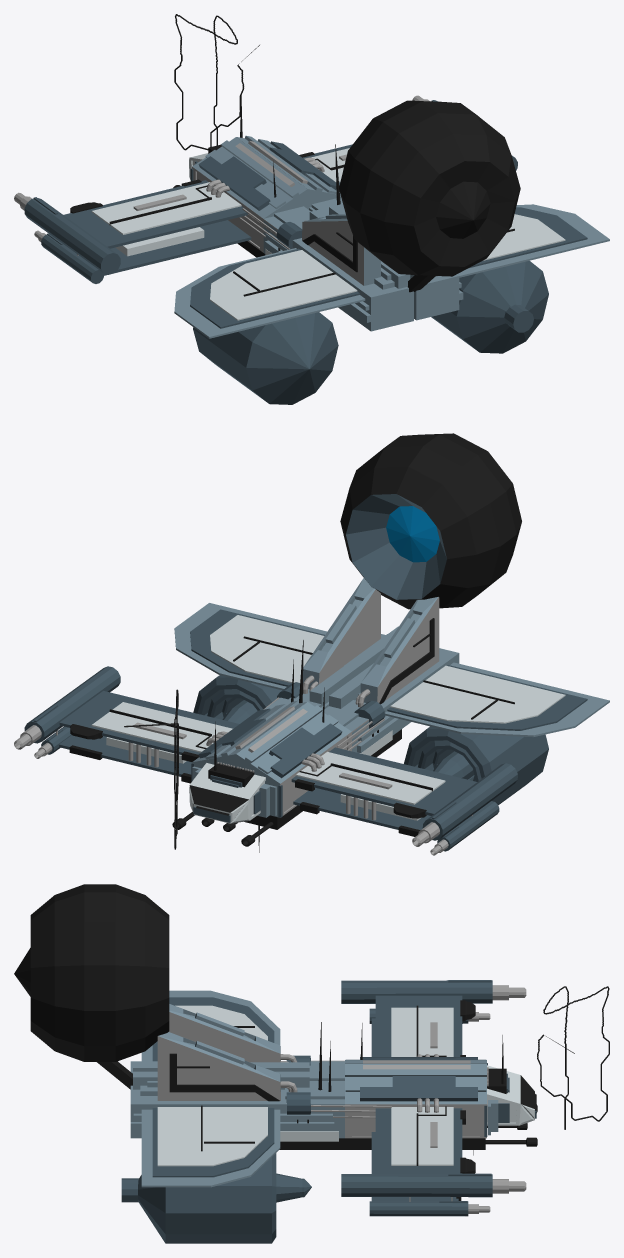
Rendered from SpaceShip | #1.glb.
The picture shows the model from 3 angles, top to bottom: view 1: azimuth 30°, elevation 25°; view 2: azimuth 150°, elevation 25°; view 3: azimuth 270°, elevation 25°; orthographic projection.
Parts seen in each view (by area): view 1: Node; view 2: Node; view 3: Node.
Boxes of the visible parts, bbox=[...] form: Node: bbox=[14, 14, 609, 404]; Node: bbox=[14, 433, 609, 855]; Node: bbox=[14, 884, 609, 1243].
Bounding box in the file's own units: 3.21 × 2.17 × 3.98.
